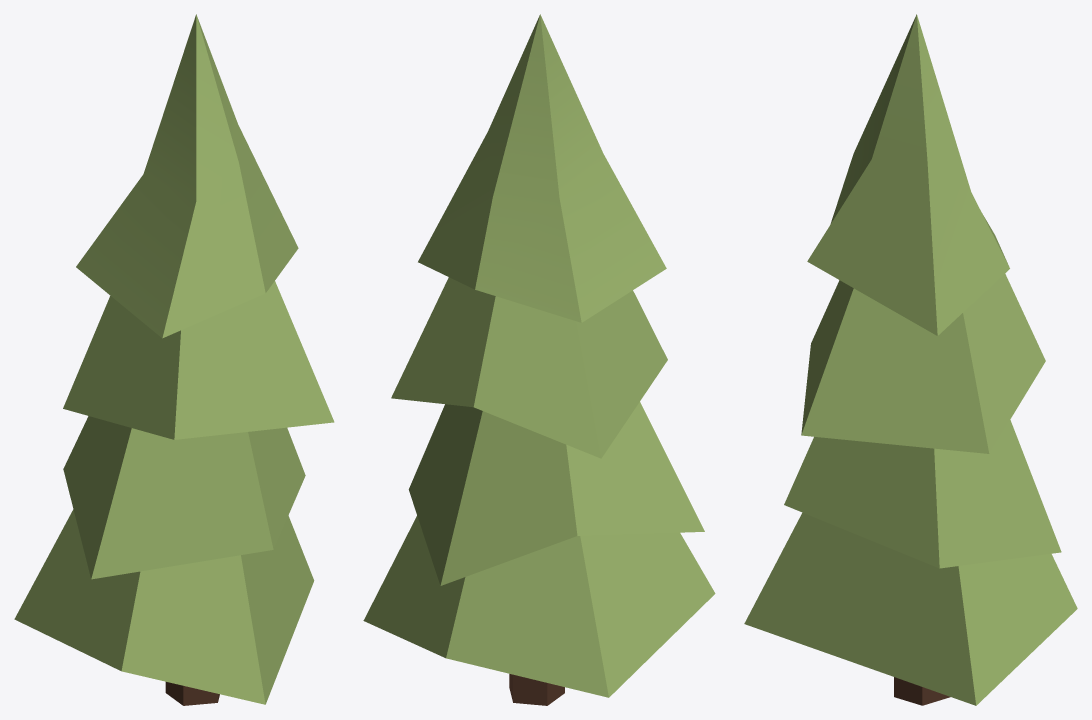
The model's file is tree_02.fbx.
The picture shows the model from 3 angles, left to right: view 1: azimuth 30°, elevation 25°; view 2: azimuth 150°, elevation 25°; view 3: azimuth 270°, elevation 25°; orthographic projection.
Visible parts, largest first — view 1: tree_02; view 2: tree_02; view 3: tree_02.
Boxes of the visible parts, x1,y1,x2,y2 form: tree_02: (14, 14, 334, 705); tree_02: (363, 14, 715, 705); tree_02: (744, 14, 1077, 705).
Bounding box in the file's own units: 1.8 × 4.13 × 1.84.
